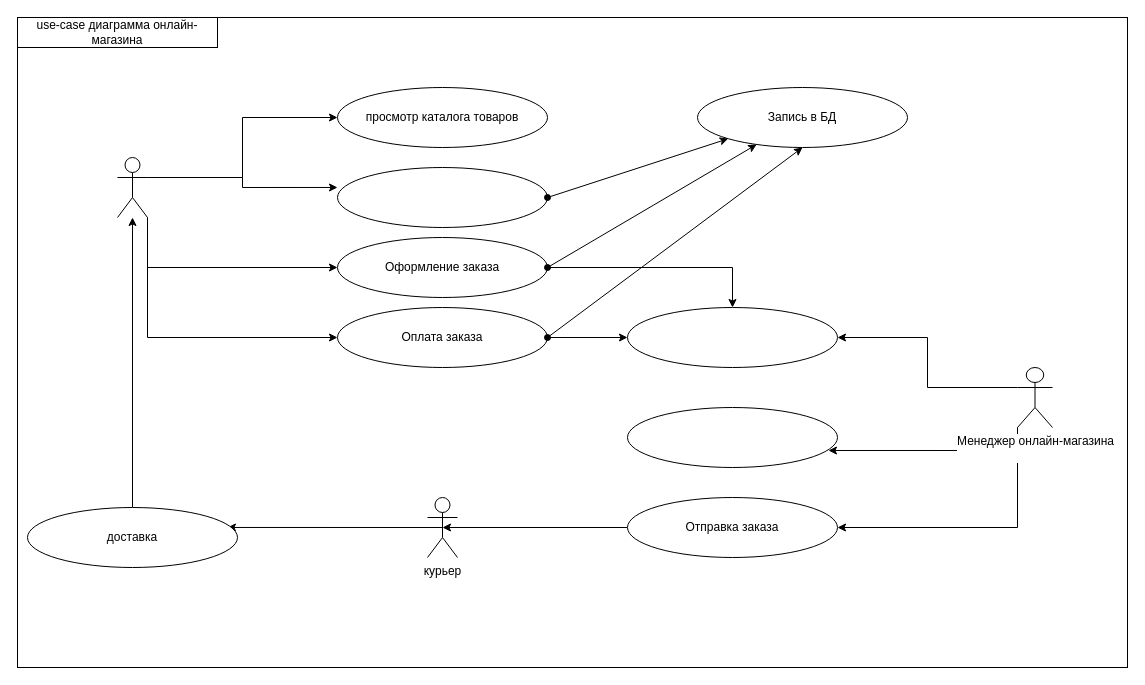
Some shapes in this 1145 by 685 pixel diagram are drawn without their labels. The shapes that lost their labels are listed below. From the top down, each one's centre as x and y in pixels, then its label:
At point (132, 187): "Покупатель".
At point (442, 197): "добавление/редактирование/удаление товаров из корзины".
At point (732, 337): "Формирование уведомления для менеджера сайта".
At point (732, 437): "Обработка заказа: - подготовка к отправке -подготовка документов".
